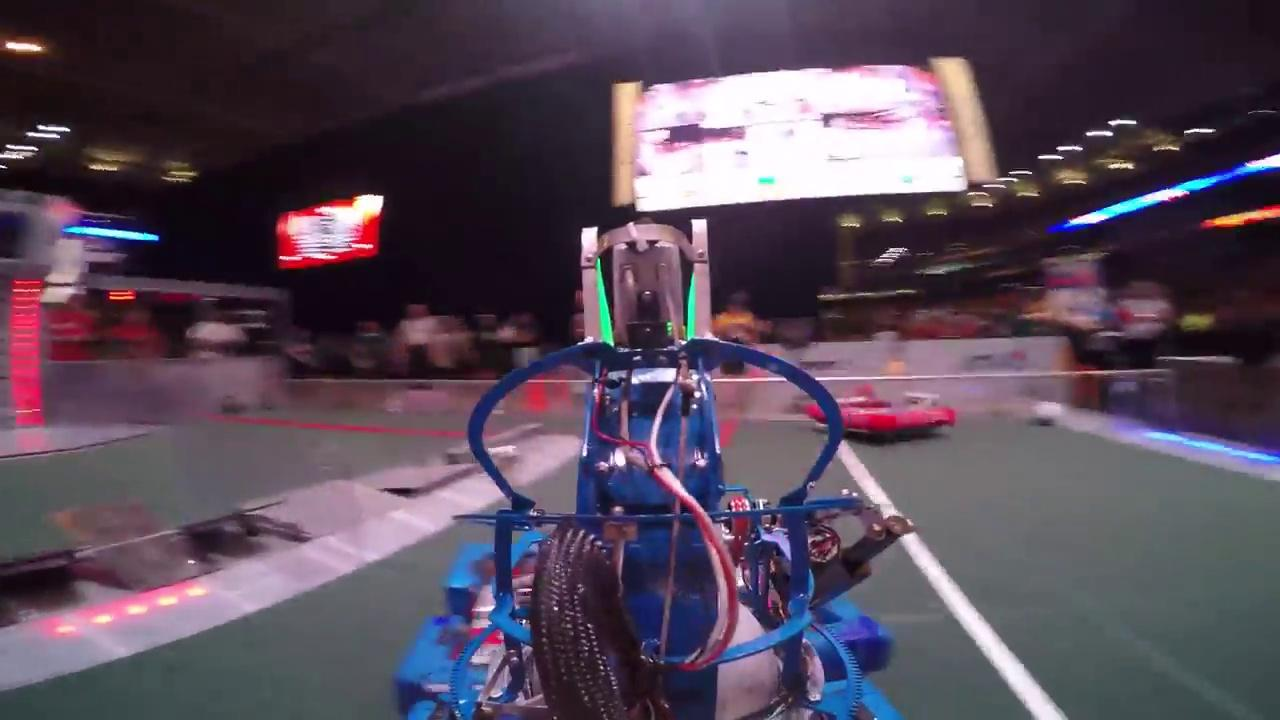robot: (812, 373, 959, 445)
